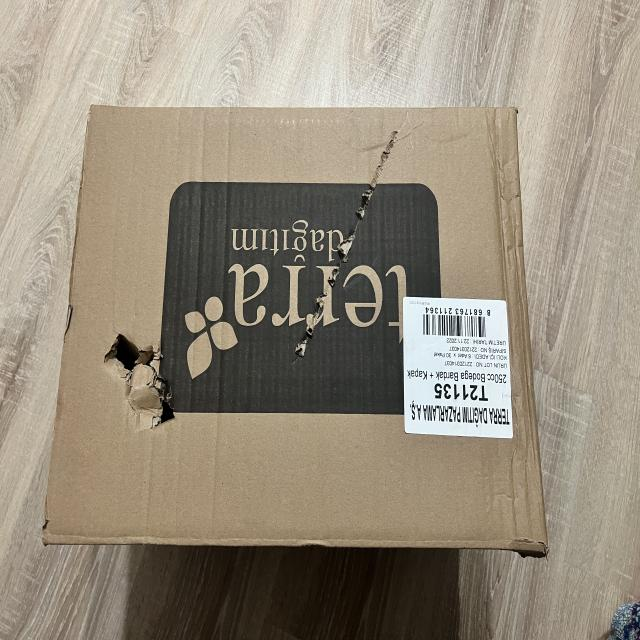damaged: (30, 91, 573, 567), (290, 119, 409, 369), (96, 315, 185, 438), (512, 532, 555, 561)
